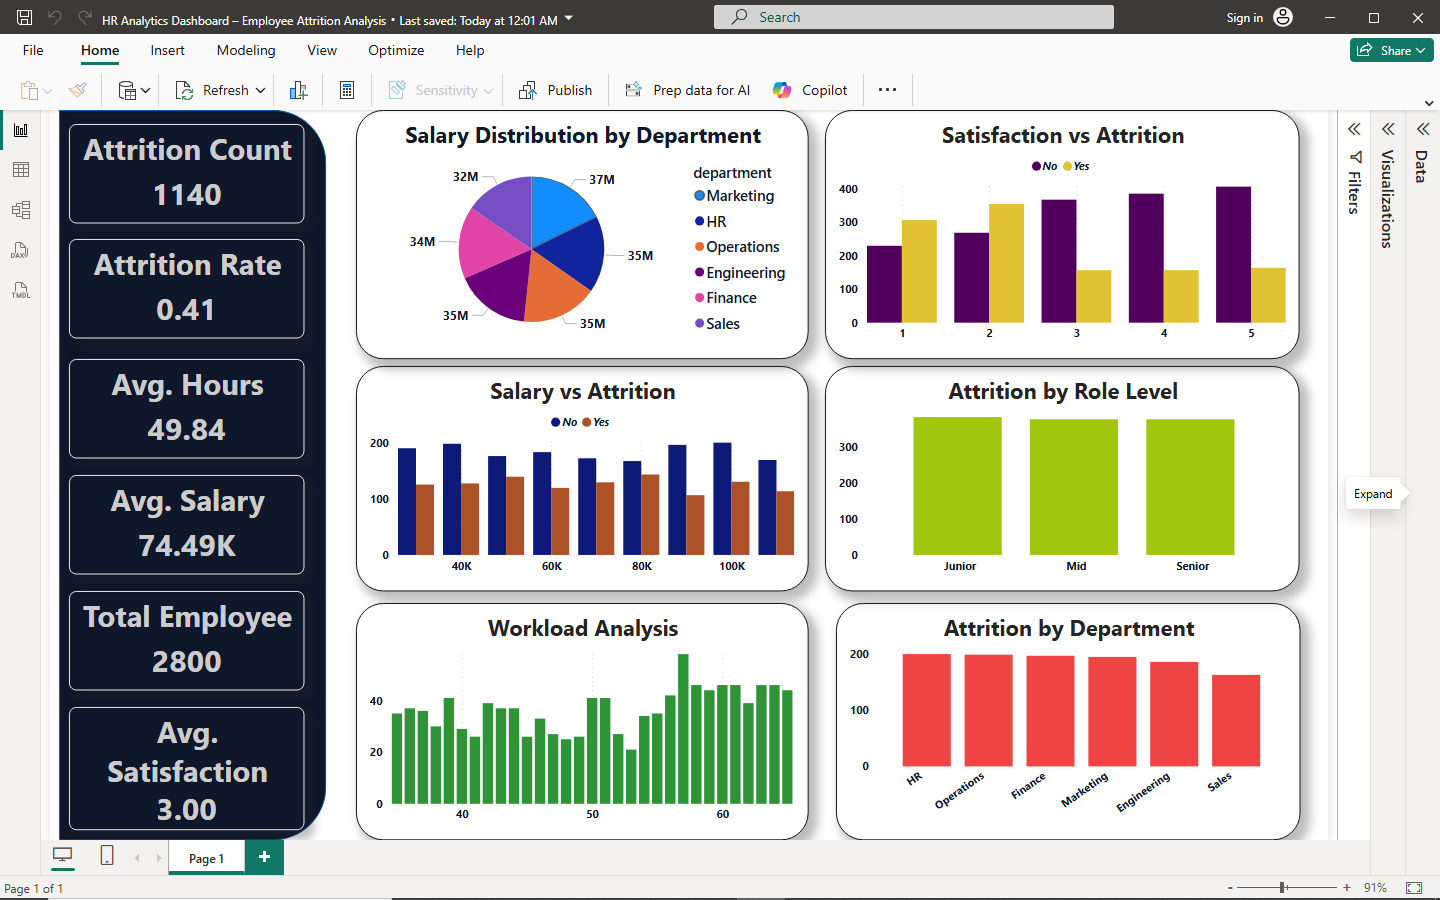

Layout of this report page (visuals, bound fields, positions):
{"tool":"powerbi","page":{"name":"Page 1","canvas":[1400,800],"ordinal":0},"visuals":[{"type":"shape","box":[9.8,0,292.8,800.4],"z":0},{"type":"card","title":"Attrition Count ","fields":{"Values":["employee_performance_workload_a.Attrition Count"]},"box":[20.9,15.3,258,108.8],"z":1000},{"type":"card","title":"Attrition Rate","fields":{"Values":["employee_performance_workload_a.Attrition Rate"]},"box":[20.9,140.8,258,108.8],"z":2000},{"type":"card","title":"Avg. Hours","fields":{"Values":["employee_performance_workload_a.Avg Hours"]},"box":[20.9,273.3,258,108.8],"z":3000},{"type":"card","title":"Avg. Salary ","fields":{"Values":["employee_performance_workload_a.Avg Salary"]},"box":[20.9,400.2,258,108.8],"z":4000},{"type":"card","title":"Avg. Satisfaction","fields":{"Values":["employee_performance_workload_a.Avg Satisfaction"]},"box":[20.9,654,258,135.3],"z":5000},{"type":"card","title":"Total Employee","fields":{"Values":["employee_performance_workload_a.Total Employees"]},"box":[20.9,527.1,258,108.8],"z":6000},{"type":"columnChart","title":"Attrition by Department","fields":{"Category":["employee_performance_workload_a.department"],"Y":["employee_performance_workload_a.Attrition Count"]},"box":[861.1,540.4,508.6,260.1],"z":7000},{"type":"columnChart","title":"Attrition by Role Level","fields":{"Y":["employee_performance_workload_a.Attrition Count"],"Category":["employee_performance_workload_a.role_level"]},"box":[849.5,280.3,520.1,247.1],"z":8000},{"type":"clusteredColumnChart","title":"Salary vs Attrition","fields":{"Series":["employee_performance_workload_a.attrition"],"Y":["Count(employee_performance_workload_a.employee_id)"],"Category":["employee_performance_workload_a.monthly_salary (bins)"]},"box":[335.2,280.3,495.6,247.1],"z":9000},{"type":"clusteredColumnChart","title":"Satisfaction vs Attrition","fields":{"Series":["employee_performance_workload_a.attrition"],"Y":["Count(employee_performance_workload_a.employee_id)"],"Category":["employee_performance_workload_a.job_satisfaction"]},"box":[849.5,0,520.1,273.1],"z":10000},{"type":"columnChart","title":"Workload Analysis","fields":{"Y":["employee_performance_workload_a.Attrition Count"],"Category":["employee_performance_workload_a.avg_weekly_hours"]},"box":[335.2,540.4,495.6,260.1],"z":11000},{"type":"pieChart","title":"Salary Distribution by Department","fields":{"Category":["employee_performance_workload_a.department"],"Y":["Sum(employee_performance_workload_a.monthly_salary)"]},"box":[335.2,0,495.6,273.1],"z":12000}]}

Visuals, with their boxes on the page's 1400x800 design canvas (x1, y1, x2, y2). These are canvas units, not pixel positions in the 1440x900 screenshot, which may show the page scaled, cropped or inside an application window:
shape: (x1=10, y1=0, x2=303, y2=800)
"Attrition Count " card: (x1=21, y1=15, x2=279, y2=124)
"Attrition Rate" card: (x1=21, y1=141, x2=279, y2=250)
"Avg. Hours" card: (x1=21, y1=273, x2=279, y2=382)
"Avg. Salary " card: (x1=21, y1=400, x2=279, y2=509)
"Avg. Satisfaction" card: (x1=21, y1=654, x2=279, y2=789)
"Total Employee" card: (x1=21, y1=527, x2=279, y2=636)
"Attrition by Department" columnChart: (x1=861, y1=540, x2=1370, y2=800)
"Attrition by Role Level" columnChart: (x1=850, y1=280, x2=1370, y2=527)
"Salary vs Attrition" clusteredColumnChart: (x1=335, y1=280, x2=831, y2=527)
"Satisfaction vs Attrition" clusteredColumnChart: (x1=850, y1=0, x2=1370, y2=273)
"Workload Analysis" columnChart: (x1=335, y1=540, x2=831, y2=800)
"Salary Distribution by Department" pieChart: (x1=335, y1=0, x2=831, y2=273)
